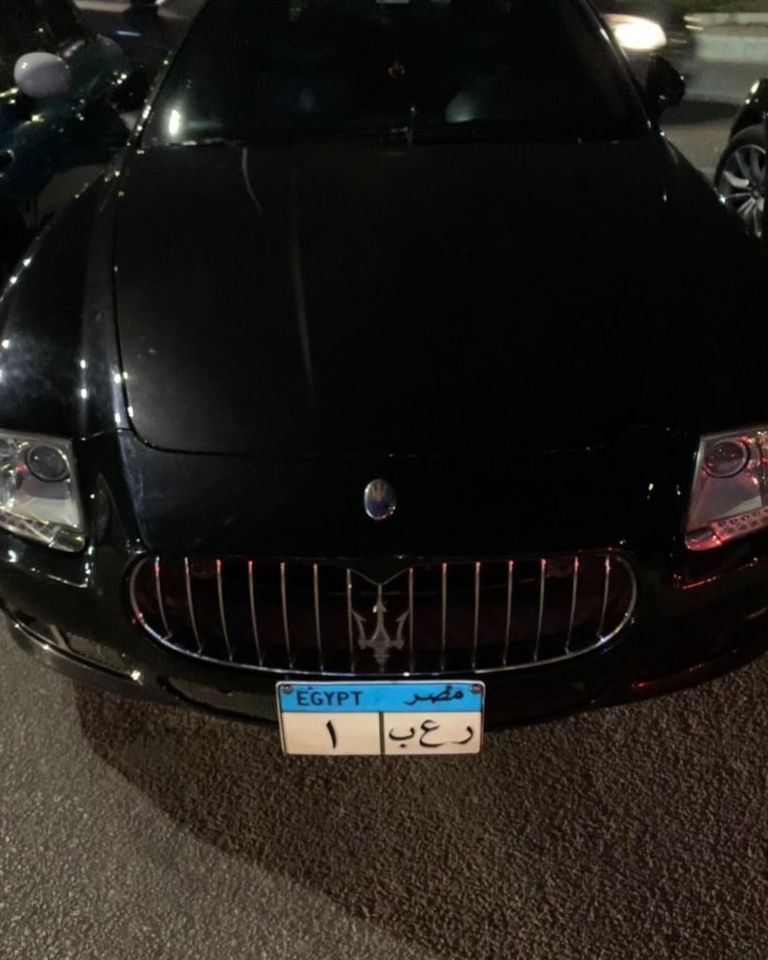carpl: (279, 690, 487, 761)
